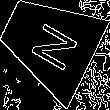N_NW: (20, 13, 78, 72)
